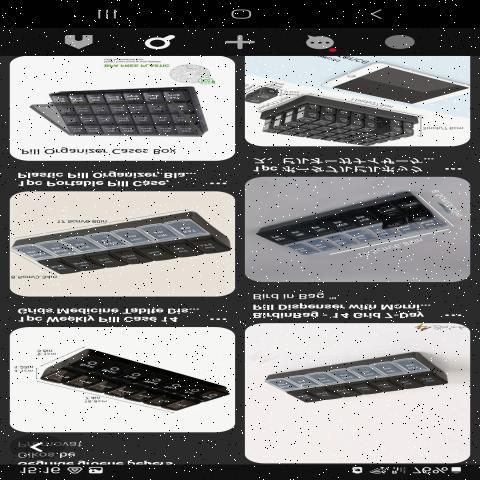PillBox: (23, 335, 233, 439), (12, 199, 235, 289), (253, 180, 464, 274), (258, 342, 458, 432), (22, 81, 220, 150), (258, 110, 412, 142)
